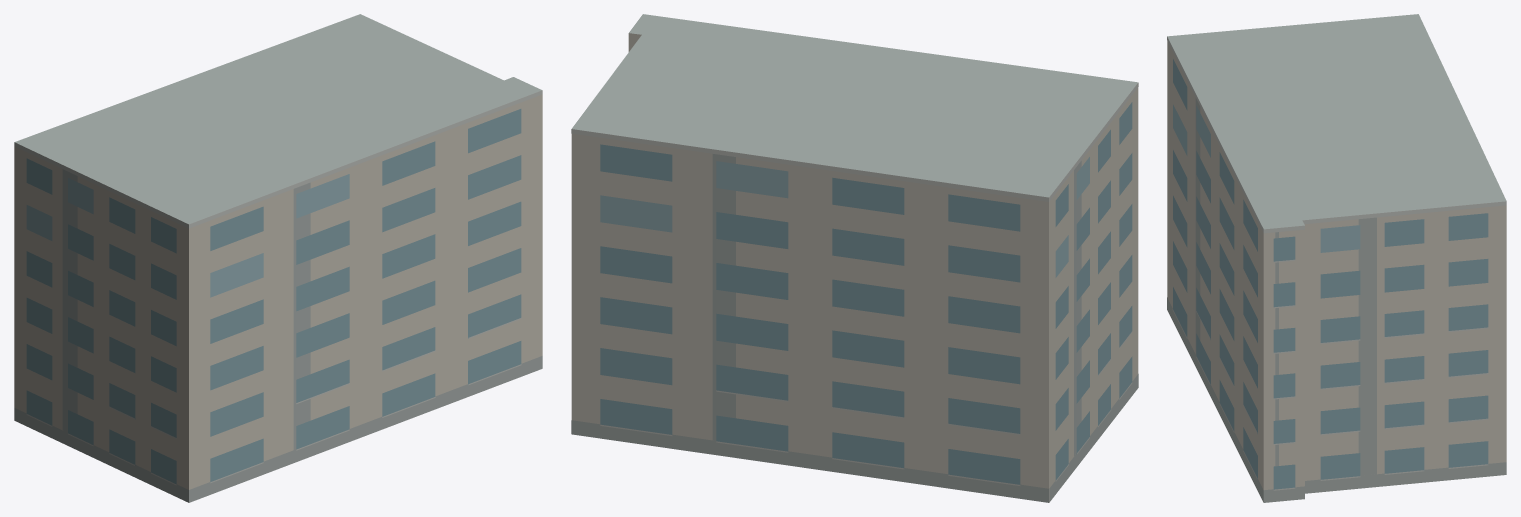
File: survey-upis-32709171.glb
3 views of the same model, side by side, from view 1: azimuth 30°, elevation 25°; view 2: azimuth 150°, elevation 25°; view 3: azimuth 270°, elevation 25° (orthographic). The views are drawn at different scales.
Visible parts, largest first — view 1: survey-upis-32709171.tmp; view 2: survey-upis-32709171.tmp; view 3: survey-upis-32709171.tmp.
Part boxes in pixels (x1,y1,x2,y2): survey-upis-32709171.tmp: [14, 14, 542, 502]; survey-upis-32709171.tmp: [571, 14, 1138, 502]; survey-upis-32709171.tmp: [1167, 14, 1506, 502].
Size of the model in its own units: 27.7 by 16.4 by 18.46.
